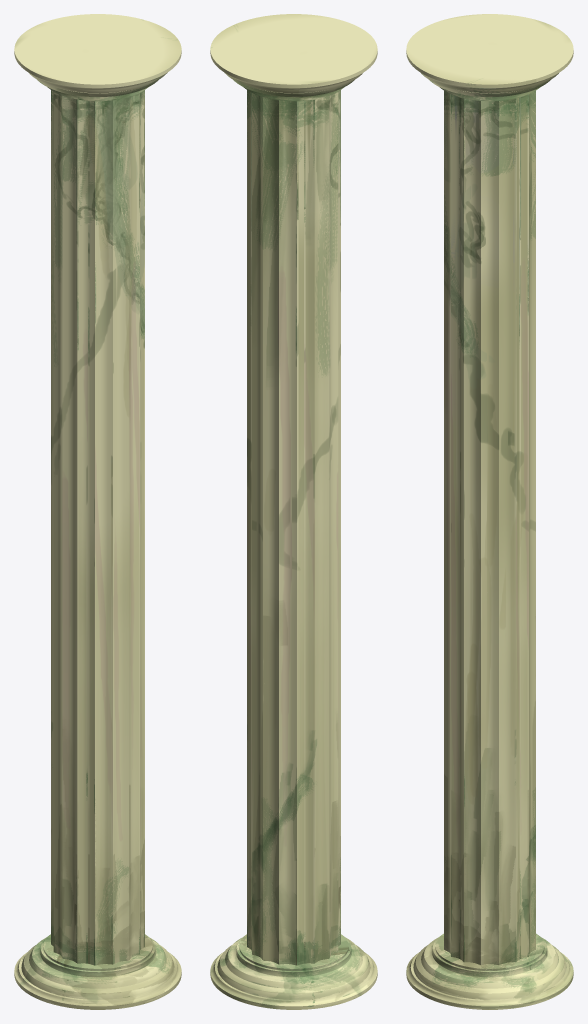
The model's file is PillarFixed.fbx.
3 renders of one model, left to right at view 1: azimuth 30°, elevation 25°; view 2: azimuth 150°, elevation 25°; view 3: azimuth 270°, elevation 25°, orthographic.
Parts seen in each view (by area): view 1: Cylinder.004; view 2: Cylinder.004; view 3: Cylinder.004.
Boxes of the visible parts, <box> form: Cylinder.004: <box>14,14,181,1009</box>; Cylinder.004: <box>210,14,377,1009</box>; Cylinder.004: <box>406,14,573,1009</box>.
Bounding box in the file's own units: 324 × 1977 × 324.
Materials: 1 (1 with a texture image).
